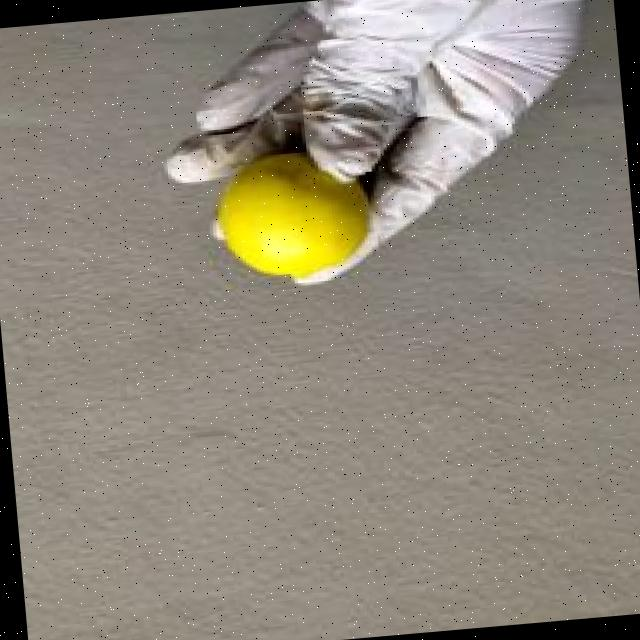lemon: (217, 152, 366, 275)
